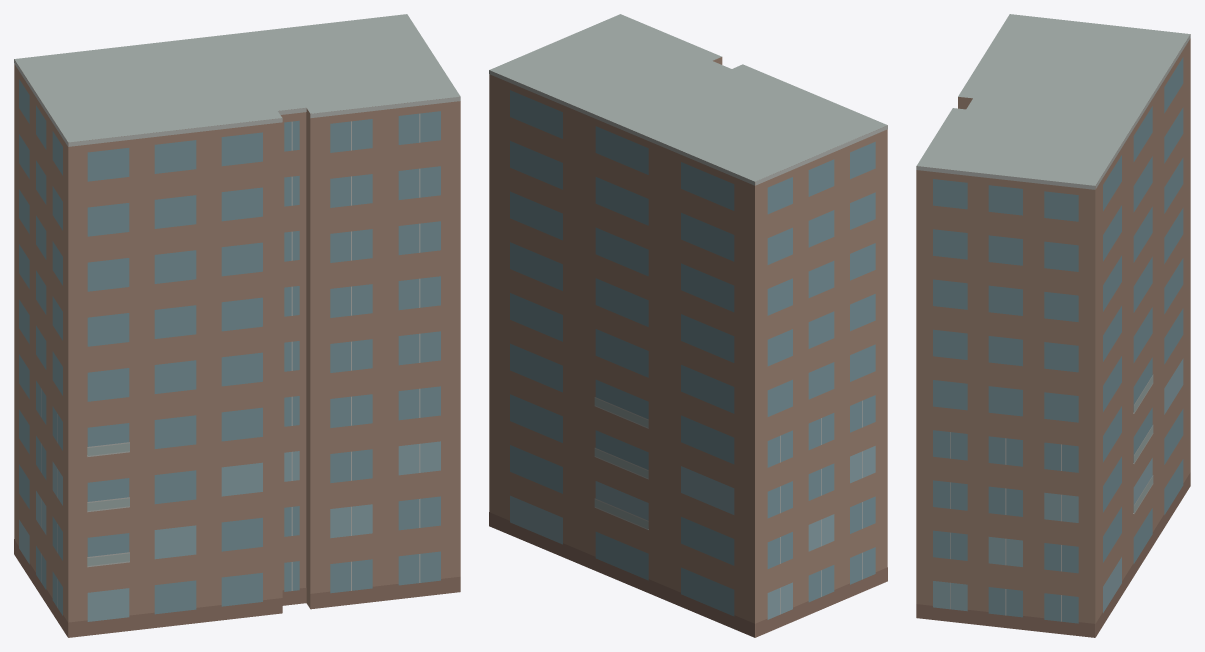
File: survey-upis-32869435.glb
The picture shows the model from 3 angles, left to right: view 1: azimuth 30°, elevation 25°; view 2: azimuth 150°, elevation 25°; view 3: azimuth 270°, elevation 25°; orthographic projection. The views are drawn at different scales.
Visible parts, largest first — view 1: survey-upis-32869435.tmp; view 2: survey-upis-32869435.tmp; view 3: survey-upis-32869435.tmp.
Part boxes in pixels (<box>): survey-upis-32869435.tmp: <box>14,14,460,637</box>; survey-upis-32869435.tmp: <box>489,14,887,637</box>; survey-upis-32869435.tmp: <box>916,14,1190,637</box>.
Size of the model in its own units: 22.39 by 27.45 by 15.09.
